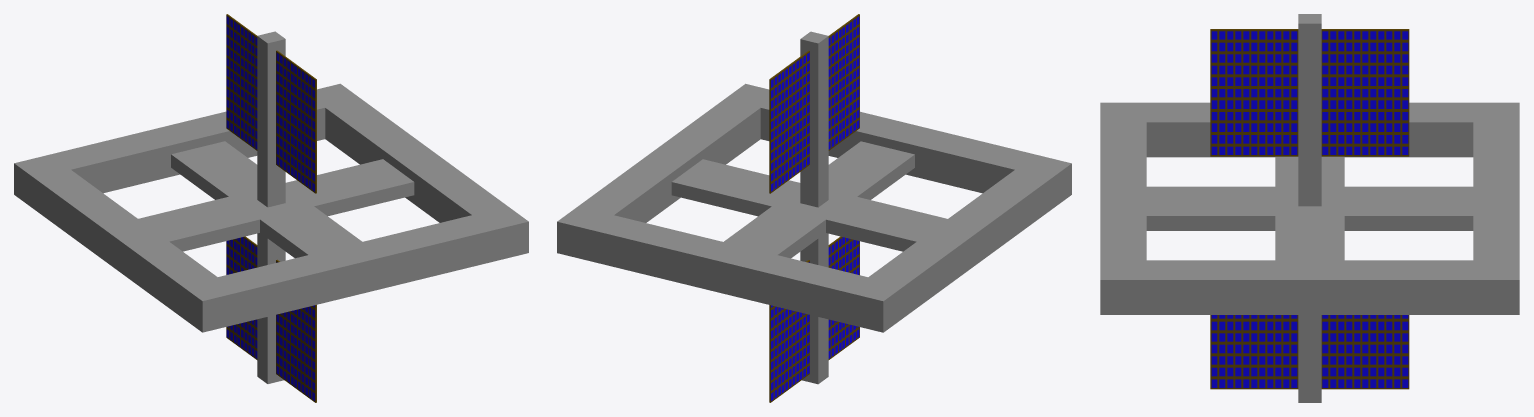
The model's file is Solar Panel Array.fbx.
3 renders of one model, left to right at view 1: azimuth 30°, elevation 25°; view 2: azimuth 150°, elevation 25°; view 3: azimuth 270°, elevation 25°, orthographic. The views are drawn at different scales.
Parts seen in each view (by area): view 1: Cube.001, Cube.002, Cube.004, Cube.003, Cube.005, Cube.006; view 2: Cube.001, Cube.002, Cube.003, Cube.004, Cube.006, Cube.005; view 3: Cube.001, Cube.002, Cube.003, Cube.004, Cube.005, Cube.006.
Part boxes in pixels (x1,y1,x2,y2): Cube.001: [14, 83, 528, 332]; Cube.002: [138, 31, 414, 383]; Cube.004: [276, 50, 316, 193]; Cube.003: [226, 14, 257, 150]; Cube.005: [276, 259, 316, 402]; Cube.006: [226, 236, 257, 359]; Cube.001: [557, 83, 1071, 332]; Cube.002: [671, 31, 947, 384]; Cube.003: [769, 50, 809, 193]; Cube.004: [828, 14, 859, 150]; Cube.006: [769, 260, 809, 402]; Cube.005: [828, 236, 859, 359]; Cube.001: [1100, 102, 1519, 314]; Cube.002: [1146, 14, 1473, 402]; Cube.003: [1321, 29, 1409, 156]; Cube.004: [1210, 29, 1298, 156]; Cube.005: [1210, 315, 1298, 389]; Cube.006: [1321, 315, 1409, 389].
Size of the model in its own units: 200 by 200 by 200.
